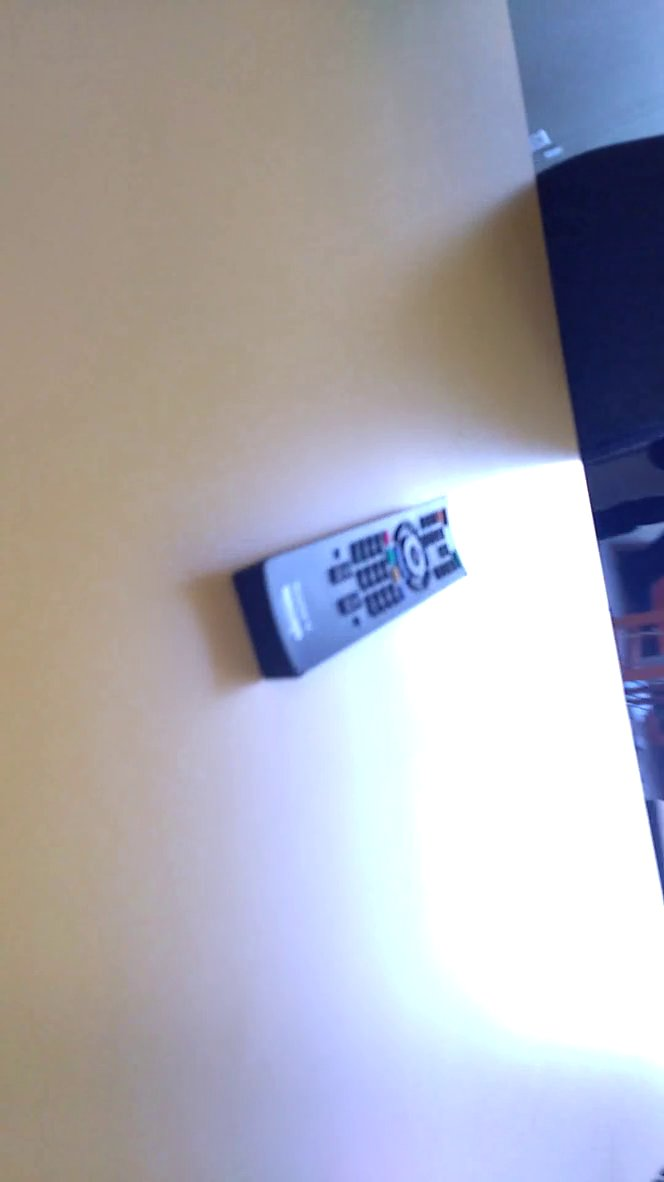remote: (218, 472, 496, 697)
